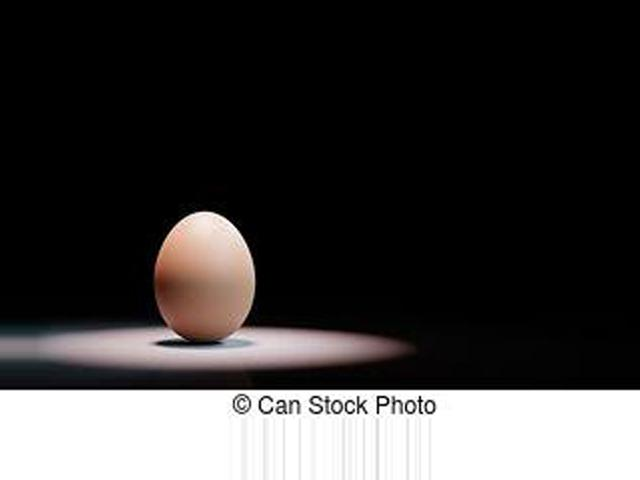egg: (151, 212, 255, 344)
